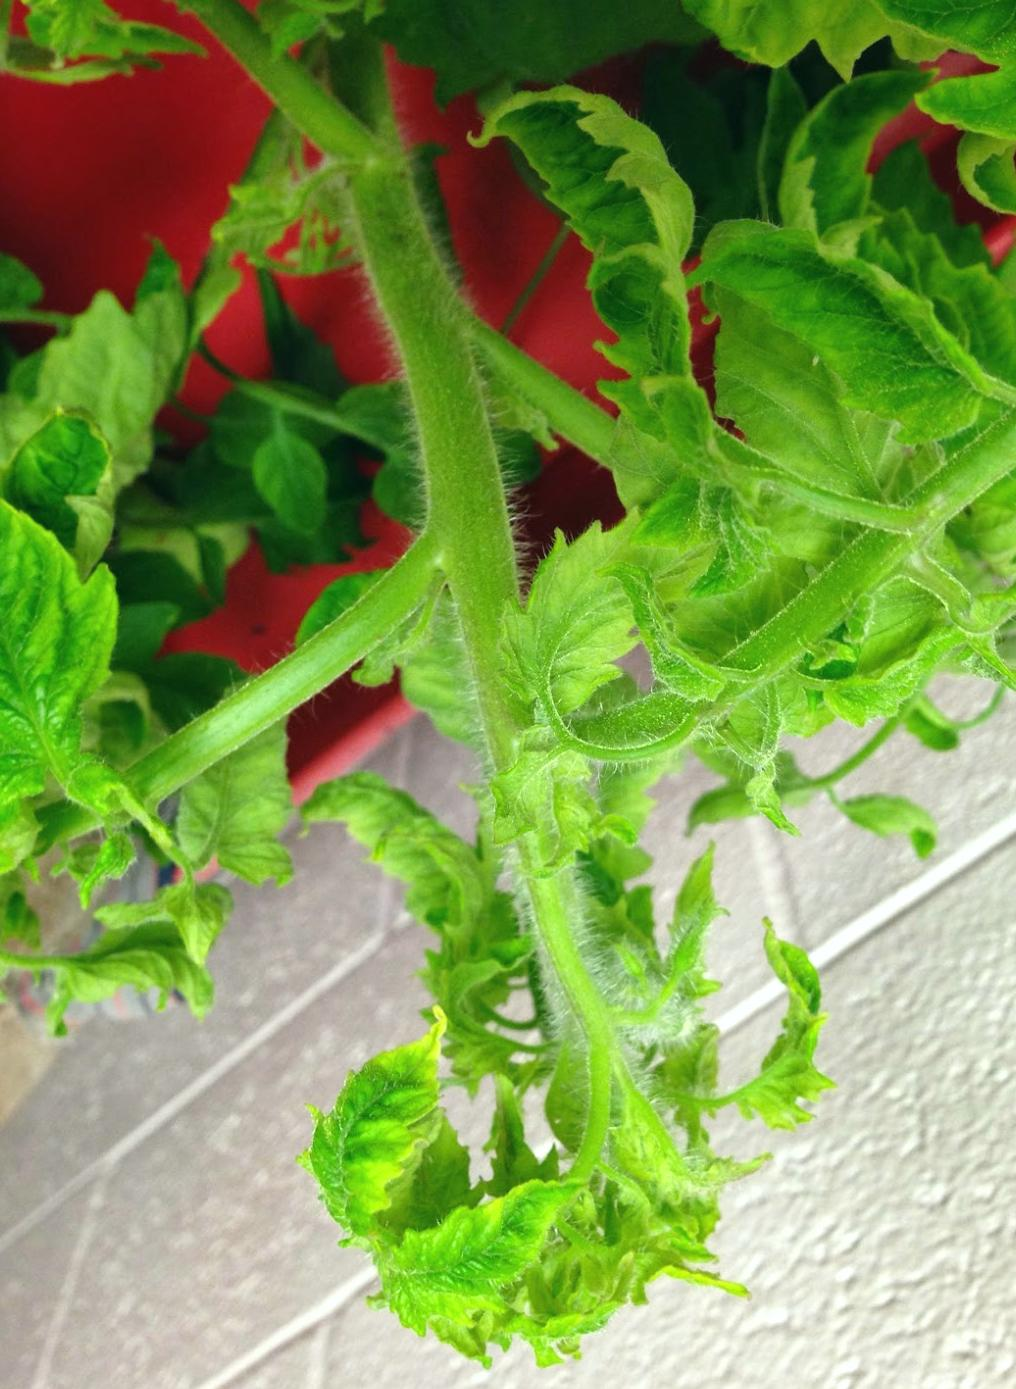Tomato leaf yellow virus: (479, 55, 726, 483), (708, 197, 1016, 453), (0, 470, 145, 838), (292, 972, 473, 1241), (504, 512, 698, 742), (390, 1146, 598, 1359)
